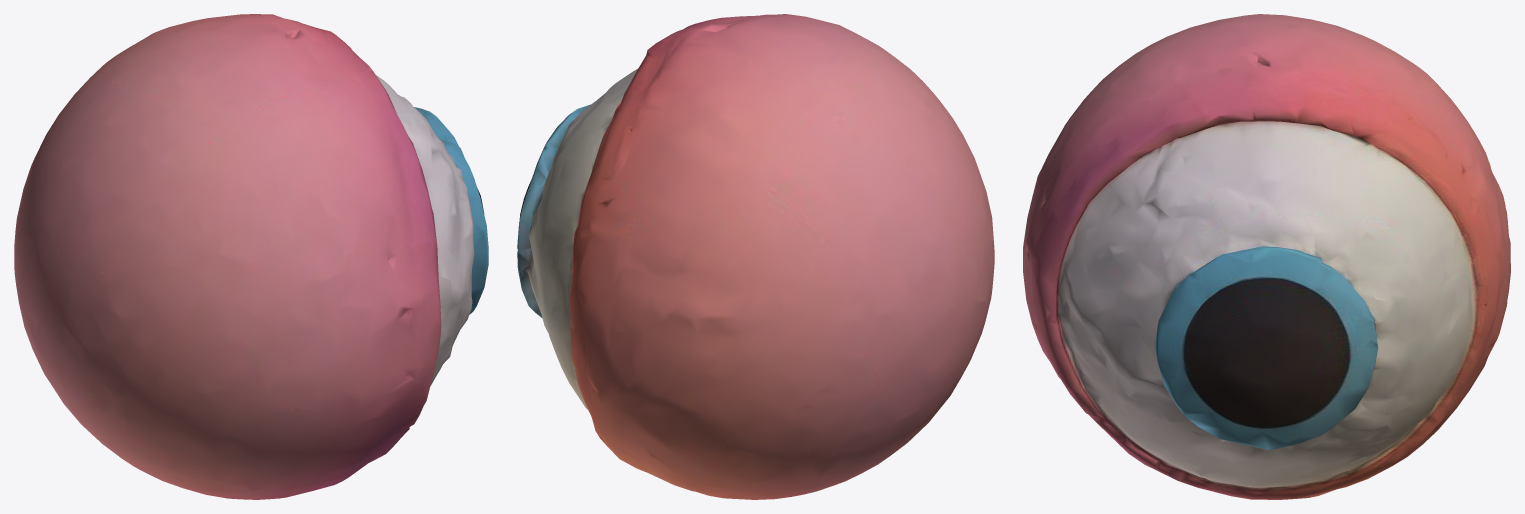
File: eye.glb
The picture shows the model from 3 angles, left to right: view 1: azimuth 30°, elevation 25°; view 2: azimuth 150°, elevation 25°; view 3: azimuth 270°, elevation 25°; orthographic projection.
Parts seen in each view (by area): view 1: tripo_node_f4b21776-5904-4803-9972-ce51177c91a5; view 2: tripo_node_f4b21776-5904-4803-9972-ce51177c91a5; view 3: tripo_node_f4b21776-5904-4803-9972-ce51177c91a5.
Boxes of the visible parts, left/top/right/bottom form: tripo_node_f4b21776-5904-4803-9972-ce51177c91a5: left=14, top=14, right=488, bottom=499; tripo_node_f4b21776-5904-4803-9972-ce51177c91a5: left=517, top=14, right=994, bottom=499; tripo_node_f4b21776-5904-4803-9972-ce51177c91a5: left=1023, top=14, right=1510, bottom=499.
Bounding box in the file's own units: 0.9953 × 1 × 0.9944.
Materials: 1 (1 with a texture image).
